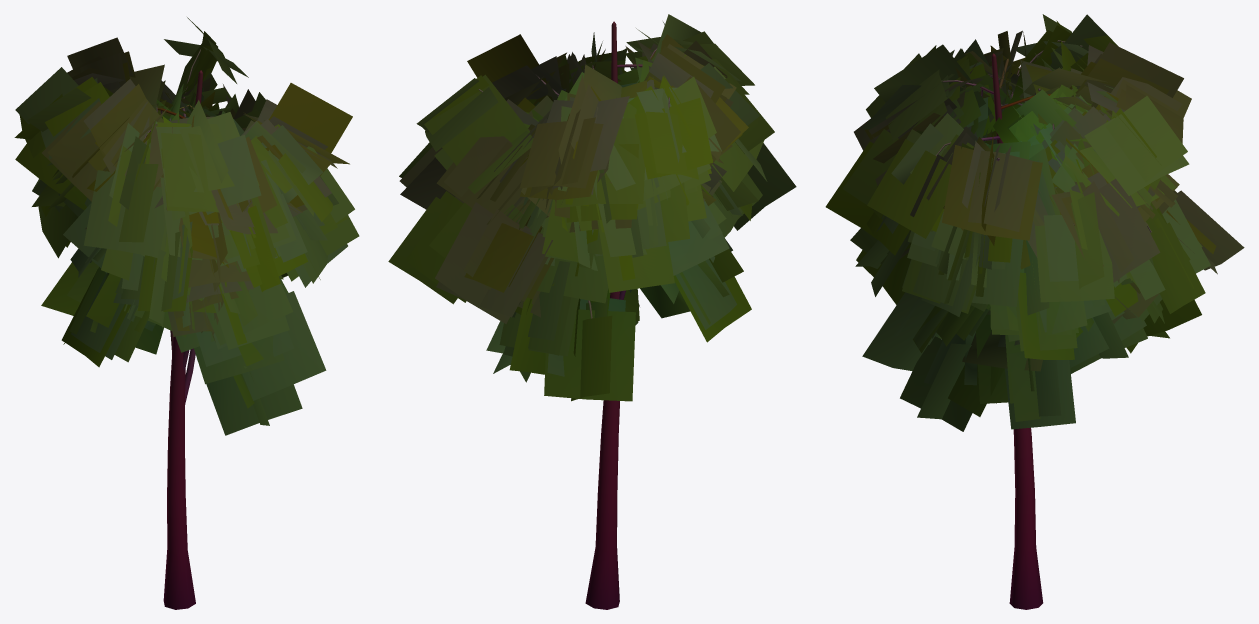
The model's file is veg_birch_a.glb.
3 views of the same model, side by side, from view 1: azimuth 30°, elevation 25°; view 2: azimuth 150°, elevation 25°; view 3: azimuth 270°, elevation 25° (orthographic). The views are drawn at different scales.
Visible parts, largest first — view 1: veg_birch_a_LOD0; view 2: veg_birch_a_LOD0; view 3: veg_birch_a_LOD0.
Part boxes in pixels (x1=…): veg_birch_a_LOD0: x1=14, y1=17, x2=359, y2=609; veg_birch_a_LOD0: x1=388, y1=14, x2=796, y2=609; veg_birch_a_LOD0: x1=825, y1=14, x2=1244, y2=609.
Size of what is drawn, in the model's own units: 1.75 by 3.12 by 2.14.
